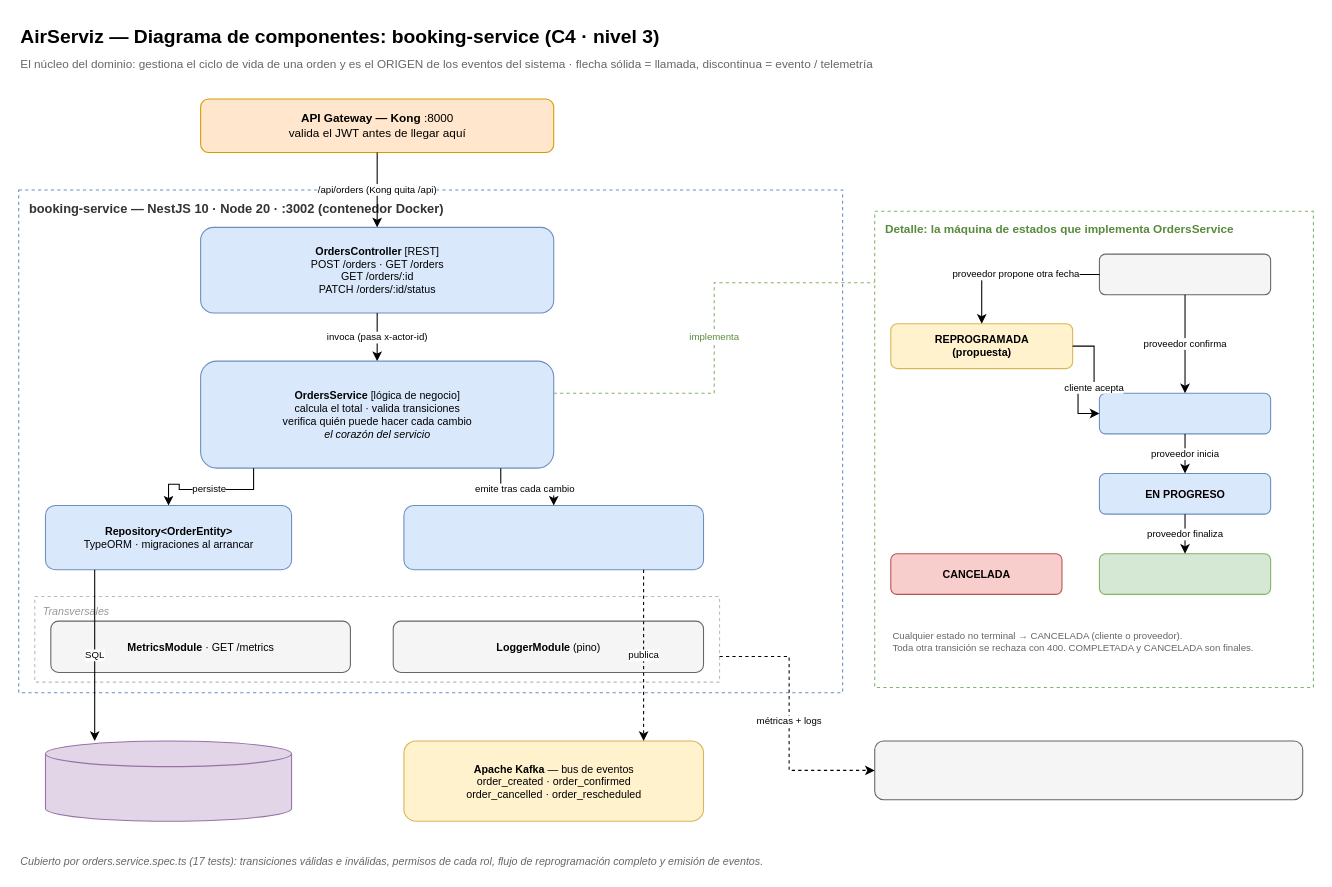
Some shapes in this 1332 by 887 pixel diagram are drawn without their labels. Each missing label, with the centre of its shape:
"COMPLETADA" goes at pixel 1184 573.
"CONFIRMADA" goes at pixel 1184 413.
"KafkaProducerService emite 4 eventos (gzip · key = orderId)" goes at pixel 553 537.
"Observabilidad — Prometheus (scrape /metrics) · Logstash (logs TCP :5000)" goes at pixel 1088 770.
"PENDIENTE" goes at pixel 1184 274.
"PostgreSQL bookings_db :5434 tabla orders" goes at pixel 168 780.
